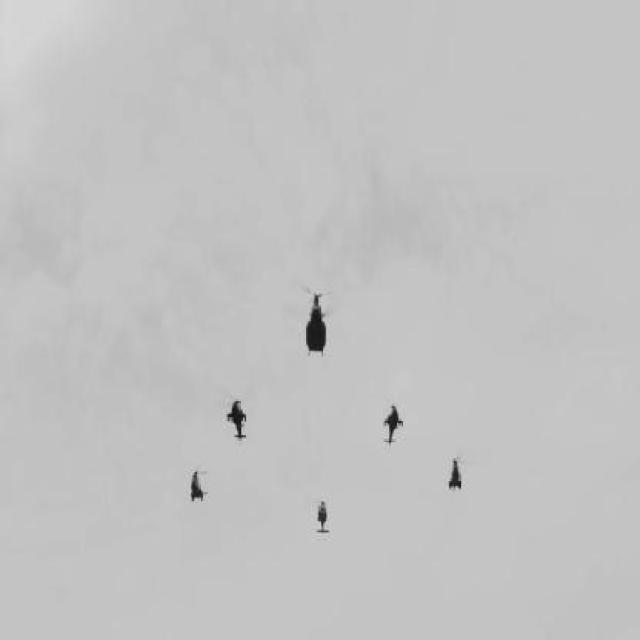Helicopter: (289, 271, 344, 359), (219, 386, 255, 444), (378, 394, 409, 451), (310, 485, 335, 536), (186, 458, 214, 502), (444, 449, 469, 493)
